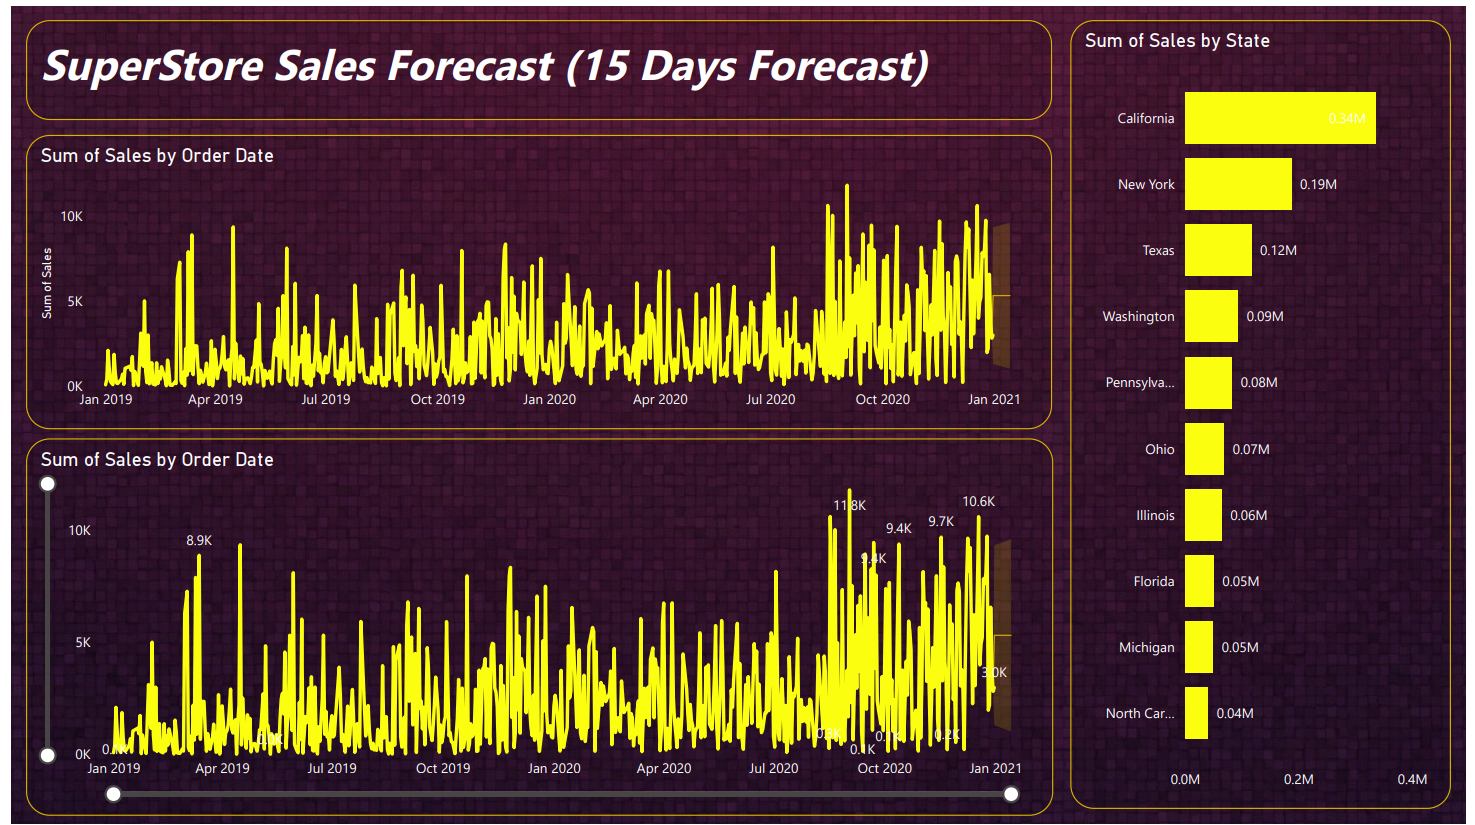

The page's visual inventory and layout, read from the dashboard file:
{"tool":"powerbi","page":{"name":"Forecasting","canvas":[1280,720],"ordinal":1},"visuals":[{"type":"lineChart","fields":{"Y":["Sum(SuperStore_Sales_Dataset.Sales)"],"Category":["SuperStore_Sales_Dataset.Order Date"]},"box":[12.6,113.8,903.6,258.7],"z":0},{"type":"lineChart","fields":{"Y":["Sum(SuperStore_Sales_Dataset.Sales)"],"Category":["SuperStore_Sales_Dataset.Order Date"]},"box":[12.6,380.6,904,332.2],"z":1},{"type":"clusteredBarChart","fields":{"Category":["SuperStore_Sales_Dataset.State"],"Y":["Sum(SuperStore_Sales_Dataset.Sales)"]},"box":[931.8,12.6,335.6,694.5],"z":2},{"type":"textbox","box":[12.6,12.6,903.6,88.5],"z":3}]}

Visuals, with their boxes in screenshot pixels (x1, y1, x2, y2), scaled from the page's 1280x720 canvas onto the 1475x825 screenshot:
lineChart - Sum(SuperStore_Sales_Dataset.Sales) x SuperStore_Sales_Dataset.Order Date: (left=15, top=130, right=1056, bottom=427)
lineChart - Sum(SuperStore_Sales_Dataset.Sales) x SuperStore_Sales_Dataset.Order Date: (left=15, top=436, right=1056, bottom=817)
clusteredBarChart - SuperStore_Sales_Dataset.State x Sum(SuperStore_Sales_Dataset.Sales): (left=1074, top=14, right=1460, bottom=810)
textbox: (left=15, top=14, right=1056, bottom=116)
